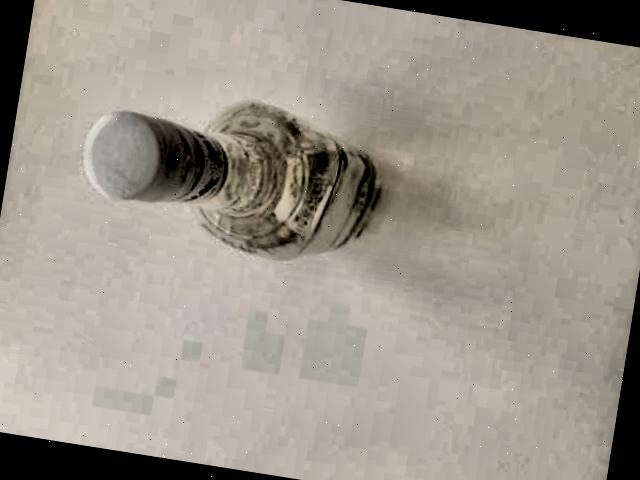Bottles: (46, 57, 415, 300)
